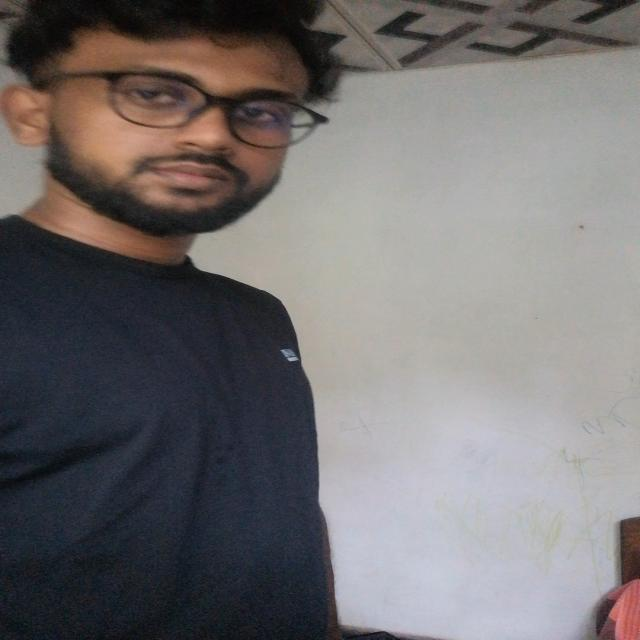Person: (1, 0, 360, 640)
